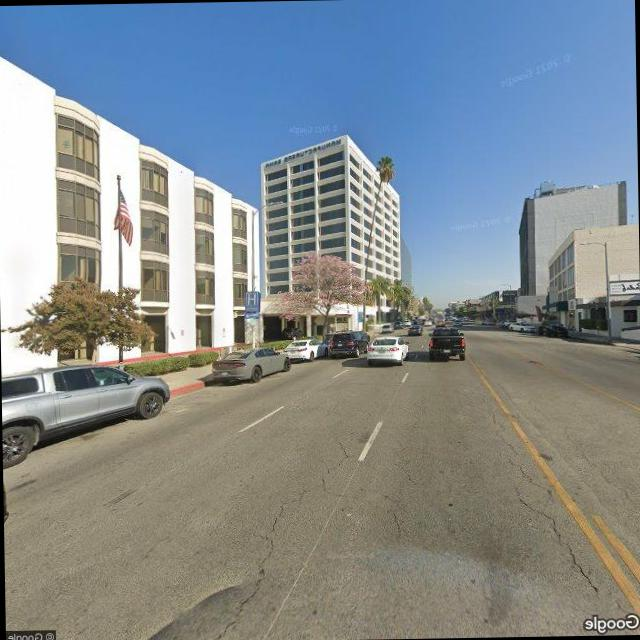crack: (180, 428, 360, 640), (488, 407, 604, 598)
